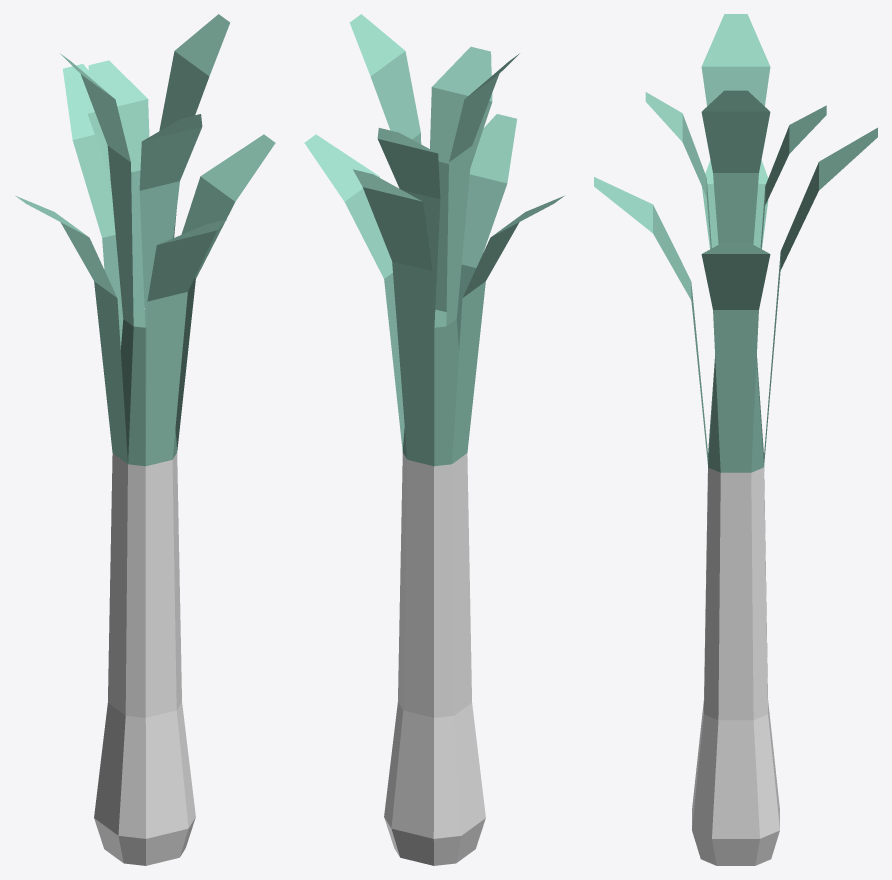
File: leek.glb
3 renders of one model, left to right at view 1: azimuth 30°, elevation 25°; view 2: azimuth 150°, elevation 25°; view 3: azimuth 270°, elevation 25°, orthographic.
Parts seen in each view (by area): view 1: leek; view 2: leek; view 3: leek.
Part boxes in pixels (<box>): leek: <box>15,14,275,865</box>; leek: <box>304,14,564,865</box>; leek: <box>594,14,877,865</box>.
Bounding box in the file's own units: 0.273 × 0.8474 × 0.273.
